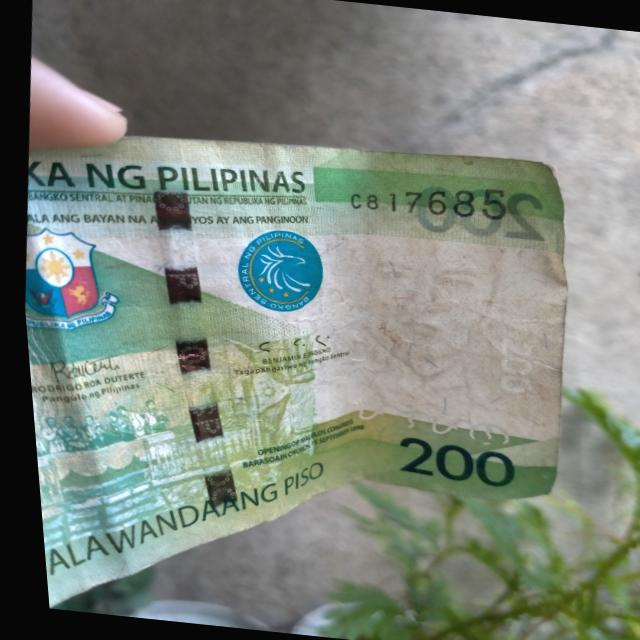security_thread: (109, 137, 279, 536)
see_through_mark: (331, 394, 518, 455)
serial_number: (345, 170, 503, 229)
value_watermark: (480, 331, 534, 396)
watermark: (320, 198, 517, 422)
